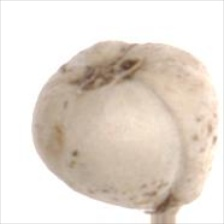L3: (139, 190, 197, 214)
L4: (32, 41, 218, 214)
